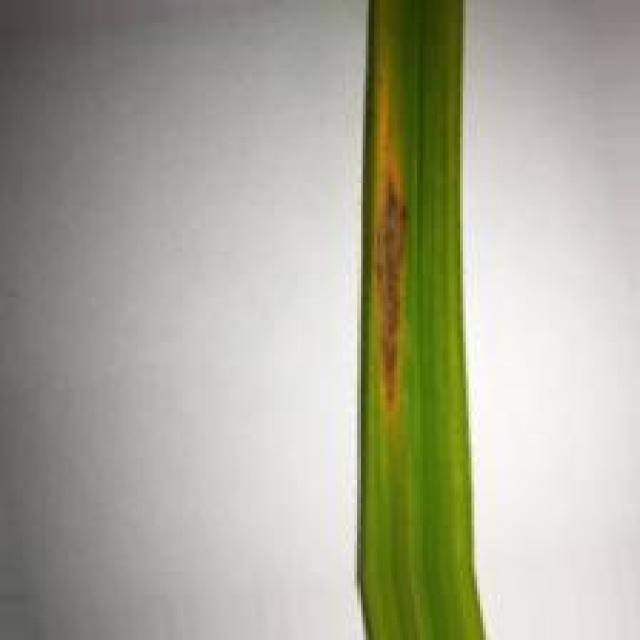Leaf_Blast: (363, 58, 416, 437)
